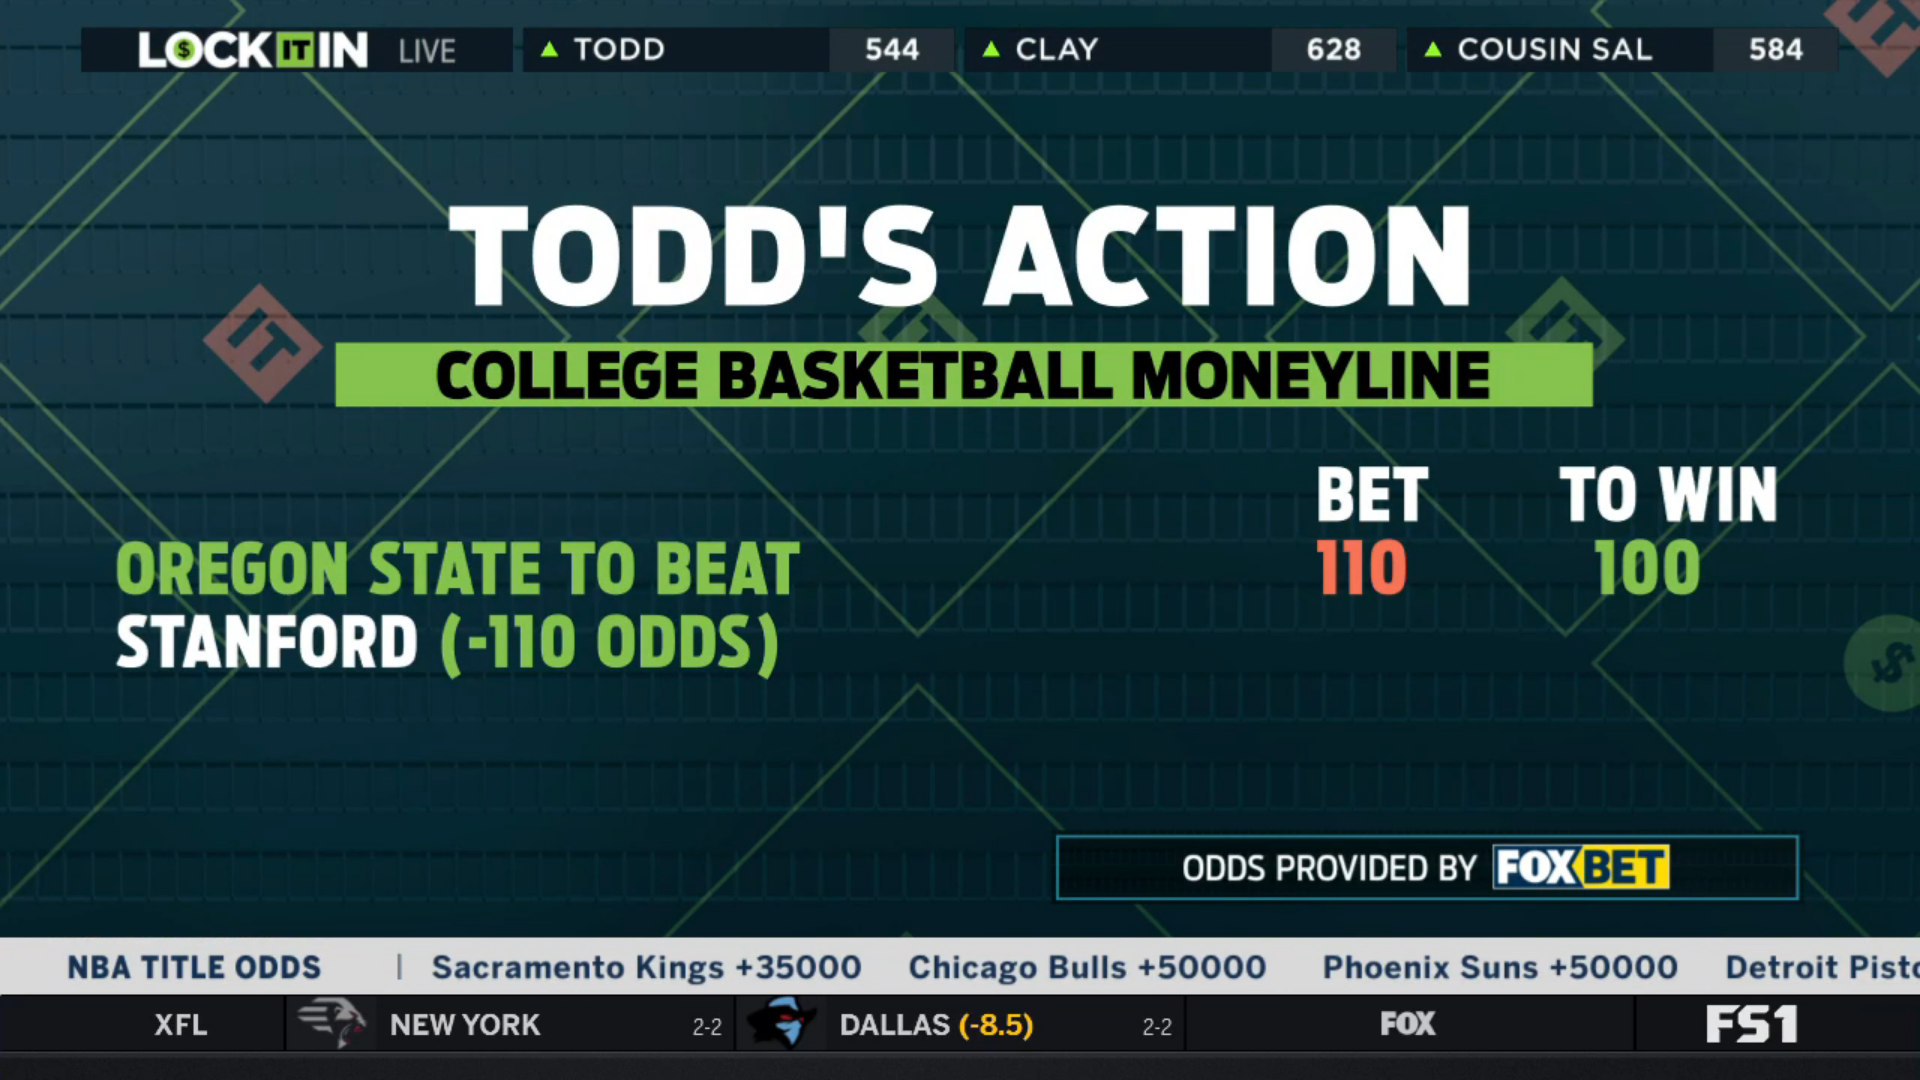Bet: (107, 527, 814, 691)
Bet Amount: (1309, 454, 1441, 601)
Subtitle: (324, 331, 1605, 417)
Title: (436, 191, 1489, 320)
To Win: (1549, 455, 1789, 607)
Top Bar: (69, 17, 1847, 80)
